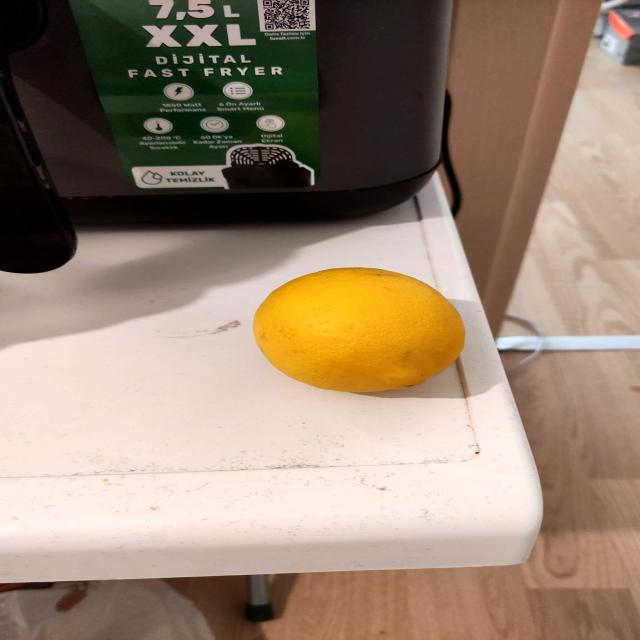lemon: (242, 263, 480, 396)
